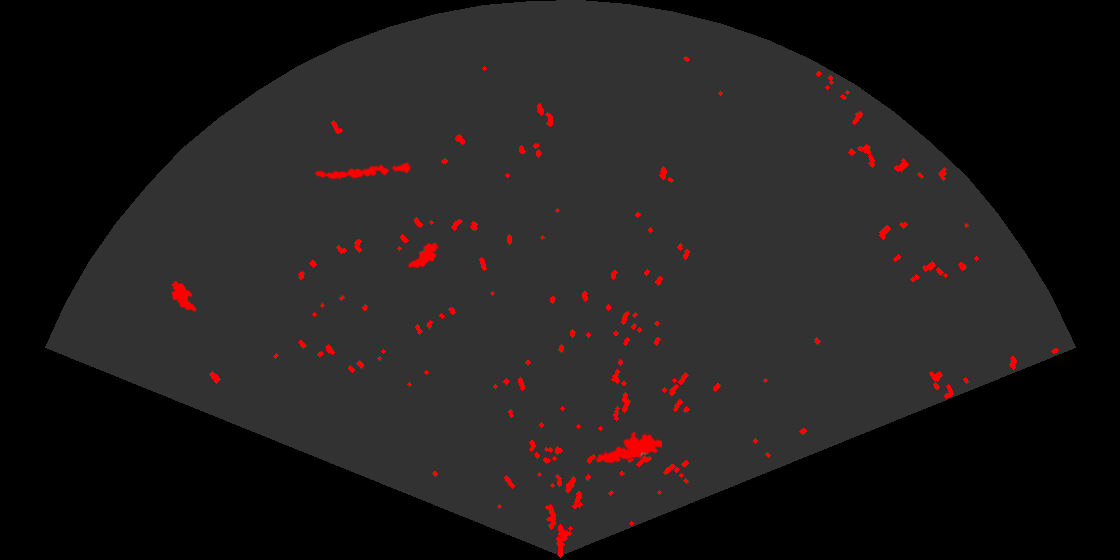AUV: (406, 241, 440, 270), (170, 279, 198, 313)
chain: (312, 161, 413, 181)
frogman: (594, 430, 662, 465)
